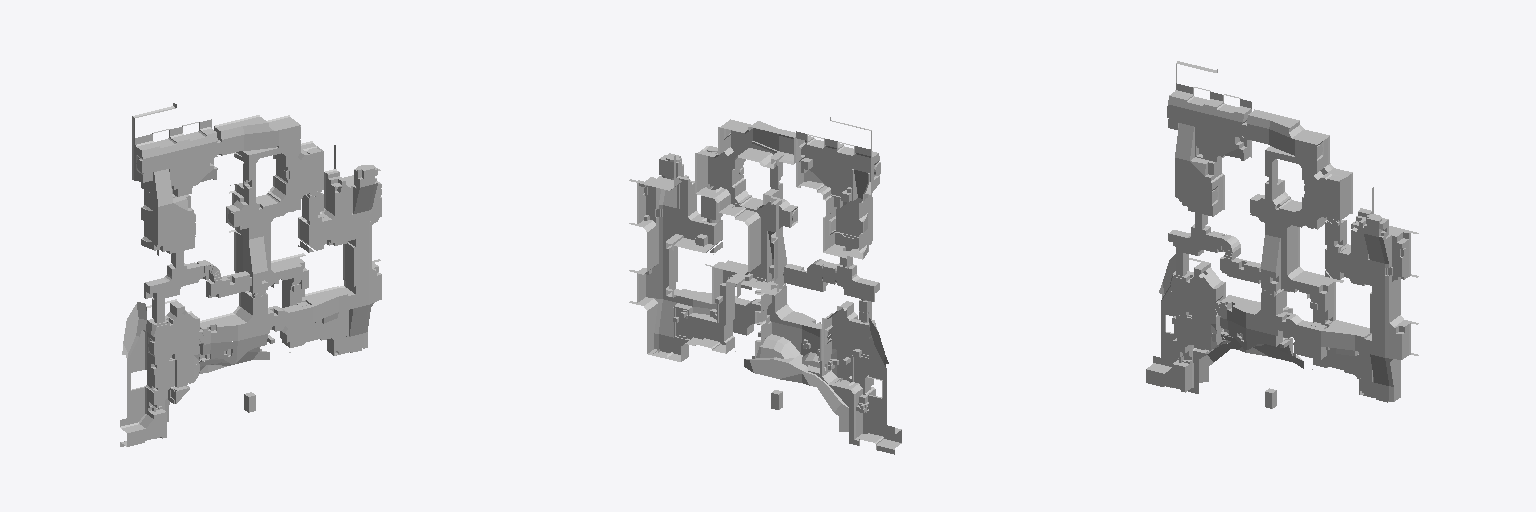
The picture shows the model from 3 angles: view 1: azimuth 30°, elevation 25°; view 2: azimuth 150°, elevation 25°; view 3: azimuth 330°, elevation 25°; orthographic projection.
Parts seen in each view (by area): view 1: de_dust2; view 2: de_dust2; view 3: de_dust2.
Part boxes in pixels (bbox=[...]): de_dust2: bbox=[120, 103, 381, 446]; de_dust2: bbox=[629, 117, 901, 454]; de_dust2: bbox=[1146, 61, 1418, 408].
Size of the model in its own units: 224 by 266 by 30.4.